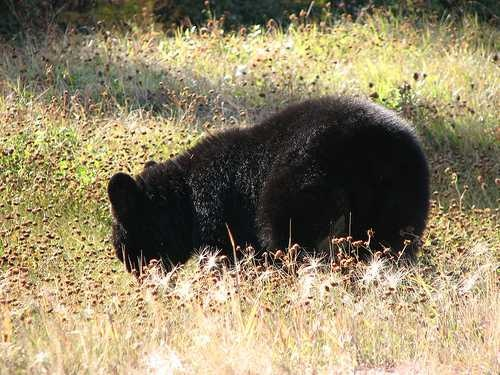bear: (97, 145, 225, 273)
